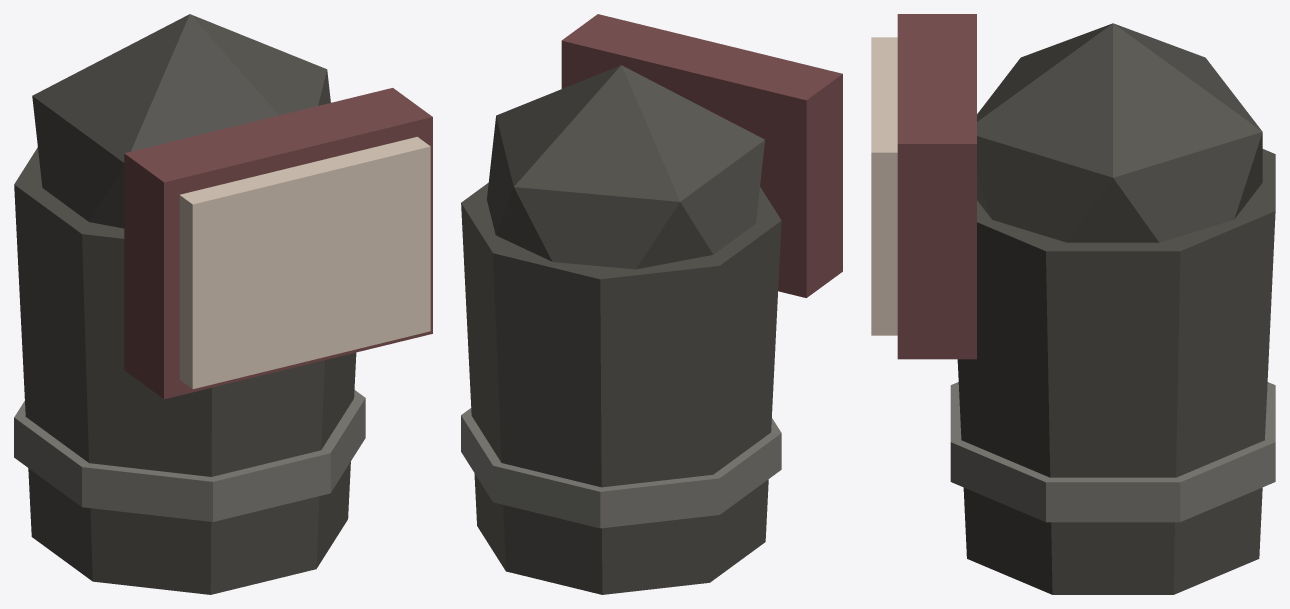
File: inf_possum_lower_leg_r.fbx
The picture shows the model from 3 angles, left to right: view 1: azimuth 30°, elevation 25°; view 2: azimuth 150°, elevation 25°; view 3: azimuth 270°, elevation 25°; orthographic projection. The views are drawn at different scales.
Visible parts, largest first — view 1: inf_possum_lower_leg_r; view 2: inf_possum_lower_leg_r; view 3: inf_possum_lower_leg_r.
Boxes of the visible parts, x1,y1,x2,y2 form: inf_possum_lower_leg_r: (14, 14, 432, 594); inf_possum_lower_leg_r: (461, 14, 842, 594); inf_possum_lower_leg_r: (871, 14, 1275, 594).
Size of the model in its own units: 73.91 by 130 by 91.96.
